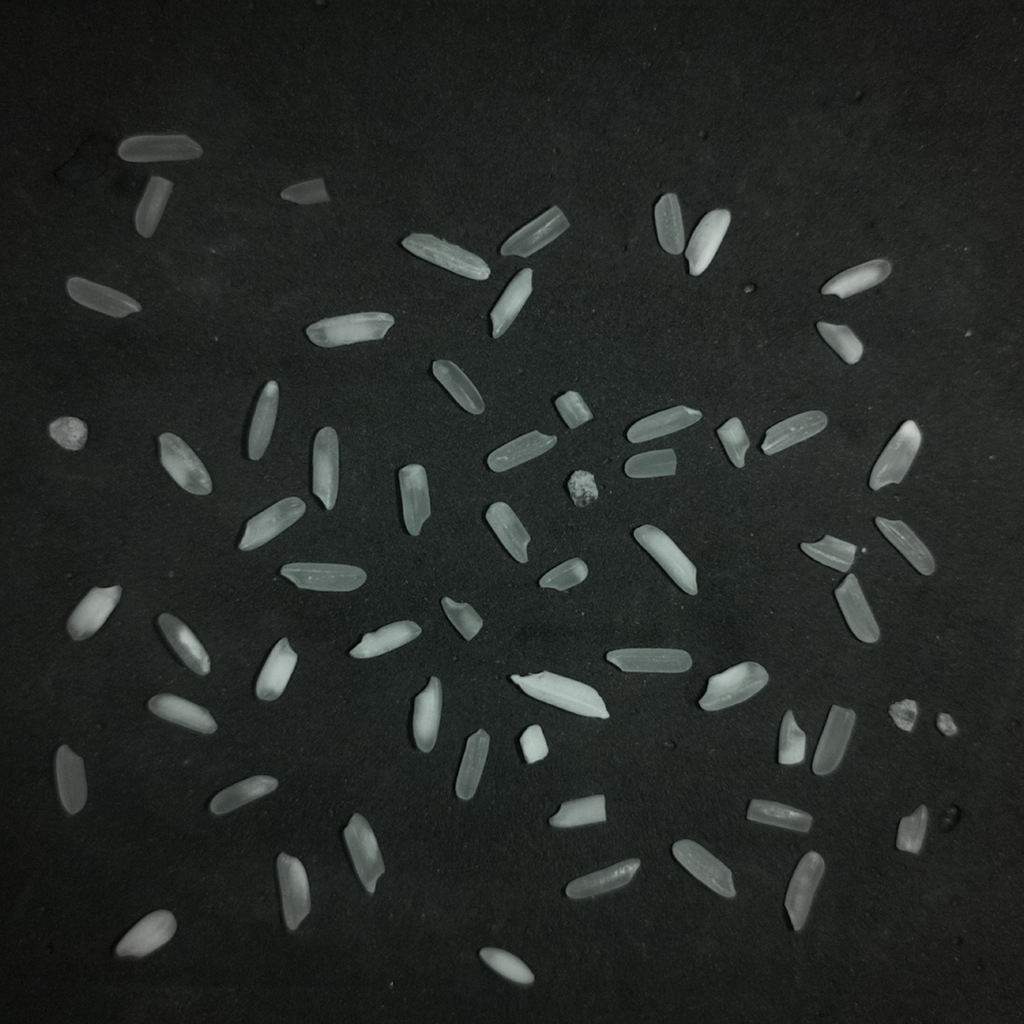broken: (500, 206, 569, 257), (158, 432, 212, 495), (156, 612, 210, 675), (761, 410, 827, 455), (812, 705, 855, 774), (488, 430, 556, 472), (485, 502, 530, 563), (746, 799, 812, 832), (800, 534, 856, 572), (654, 193, 685, 256), (441, 596, 482, 640), (538, 557, 588, 591), (777, 710, 806, 765), (896, 805, 928, 854), (624, 449, 676, 478), (554, 390, 592, 428), (280, 178, 329, 205)
chalky: (633, 524, 697, 594), (238, 496, 306, 551), (869, 420, 921, 490), (699, 661, 768, 710), (66, 585, 123, 641), (305, 312, 394, 347), (114, 909, 175, 958), (685, 209, 730, 275), (147, 693, 217, 734), (491, 268, 531, 338), (349, 620, 421, 658), (822, 259, 891, 298), (255, 637, 297, 700), (311, 426, 339, 510), (413, 676, 442, 752), (815, 321, 863, 364), (479, 948, 534, 985), (549, 794, 606, 827), (716, 417, 749, 467), (519, 724, 548, 763)
foreign: (511, 670, 608, 718), (401, 233, 489, 280), (48, 416, 87, 450), (566, 470, 598, 507), (888, 699, 918, 731), (935, 712, 958, 737)
whole: (672, 840, 735, 898), (874, 517, 935, 575), (342, 813, 384, 894), (66, 276, 141, 318), (784, 851, 823, 931), (565, 858, 641, 899), (834, 574, 879, 642), (432, 360, 484, 414), (209, 775, 278, 815), (627, 405, 701, 442), (275, 852, 310, 930), (280, 562, 366, 592), (247, 380, 279, 460), (398, 464, 431, 537), (134, 175, 172, 238), (117, 134, 202, 162), (455, 730, 489, 800), (54, 744, 87, 815), (606, 648, 691, 673)
